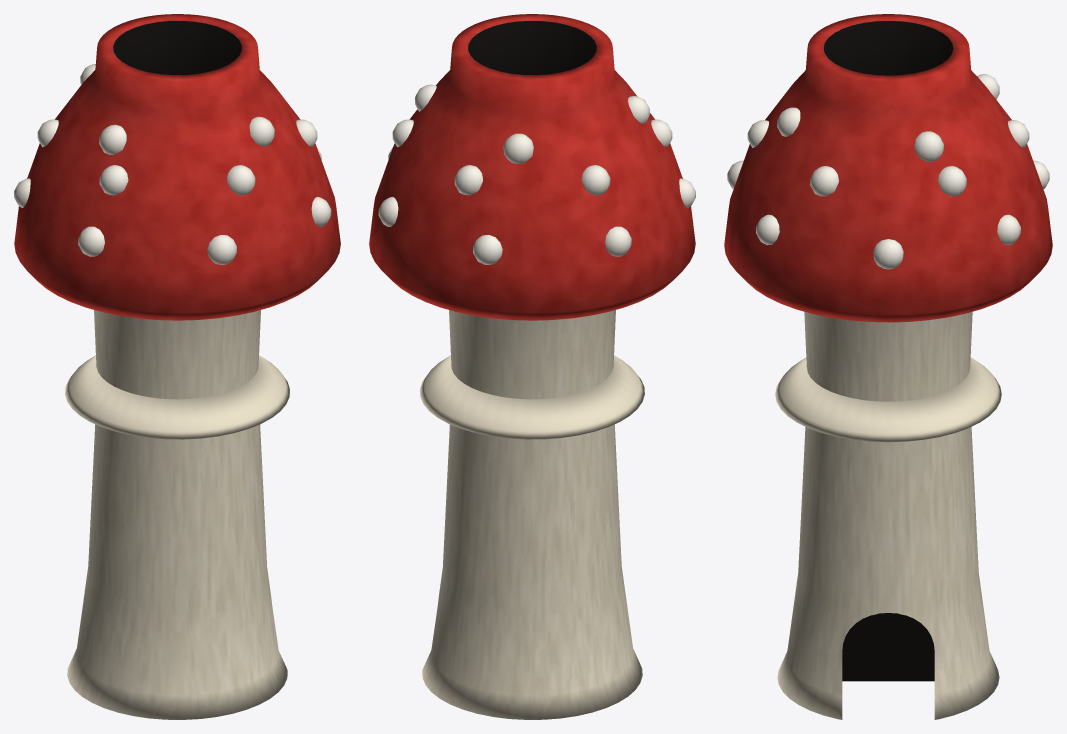
The model's file is toadstool.glb.
3 renders of one model, left to right at view 1: azimuth 30°, elevation 25°; view 2: azimuth 150°, elevation 25°; view 3: azimuth 270°, elevation 25°, orthographic.
Visible parts, largest first — view 1: cap.002, stem, skirt, spots; view 2: cap.002, stem, skirt, spots; view 3: cap.002, stem, skirt, spots.
Boxes of the visible parts, box(x1,y1,x2,y2) form: cap.002: box(14, 14, 340, 320); stem: box(67, 310, 287, 719); skirt: box(65, 355, 289, 439); spots: box(14, 64, 331, 264); cap.002: box(369, 14, 695, 320); stem: box(422, 310, 642, 719); skirt: box(420, 355, 644, 439); spots: box(378, 84, 695, 264); cap.002: box(724, 14, 1052, 322); stem: box(777, 311, 999, 719); skirt: box(775, 357, 1001, 442); spots: box(727, 74, 1049, 269).
Bounding box in the file's own units: 7.11 × 15 × 7.1.
Materials: 6 (2 with a texture image).
